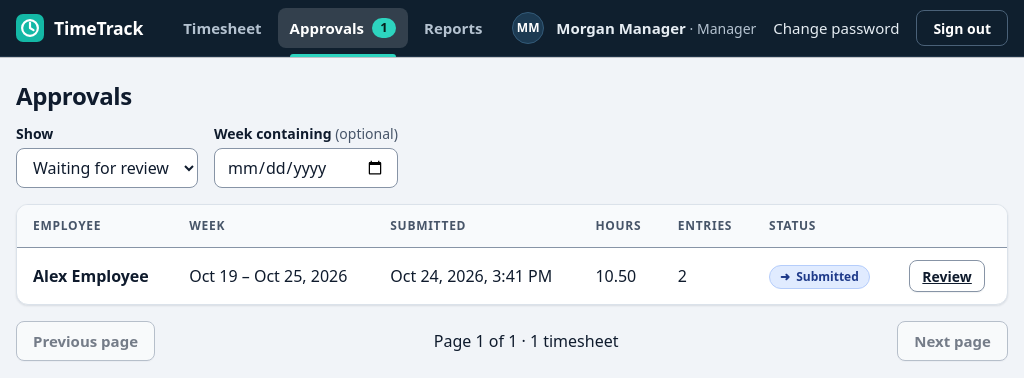
Test: approvals list › filters by week and can clear the filter
Type "2026-10-21" into the date field labelled "Week containing (optional)" at [306, 168], box [214,148,398,188]
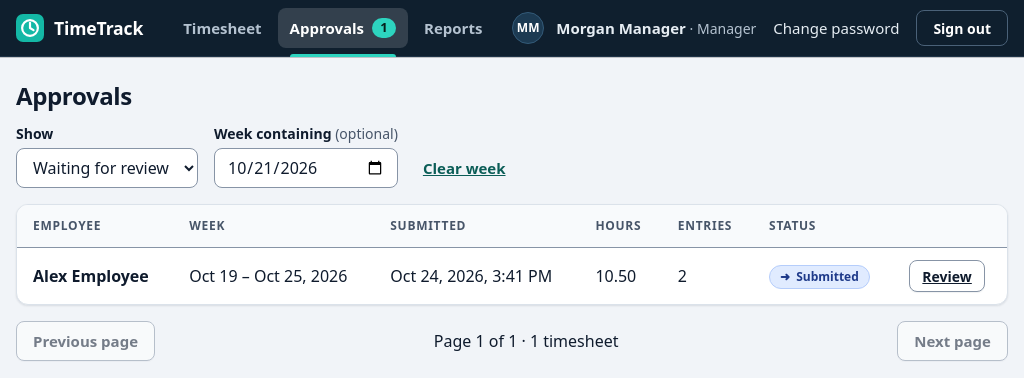
Click the button "Clear week" at [464, 168], box [414,148,514,188]
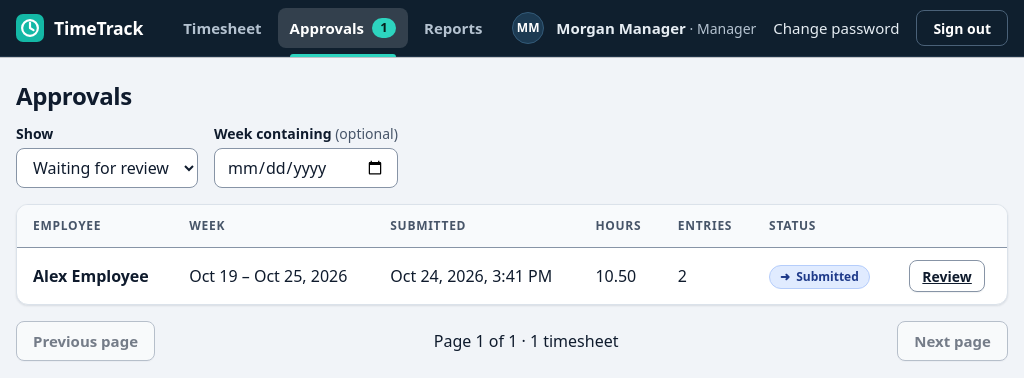
Expected: the number of rows with test id "approval-row" is 1, [17,248,1007,304]
Result: the date field labelled "Week containing (optional)" is empty at [214,148,398,188]
Result: the button "Clear week" is gone
